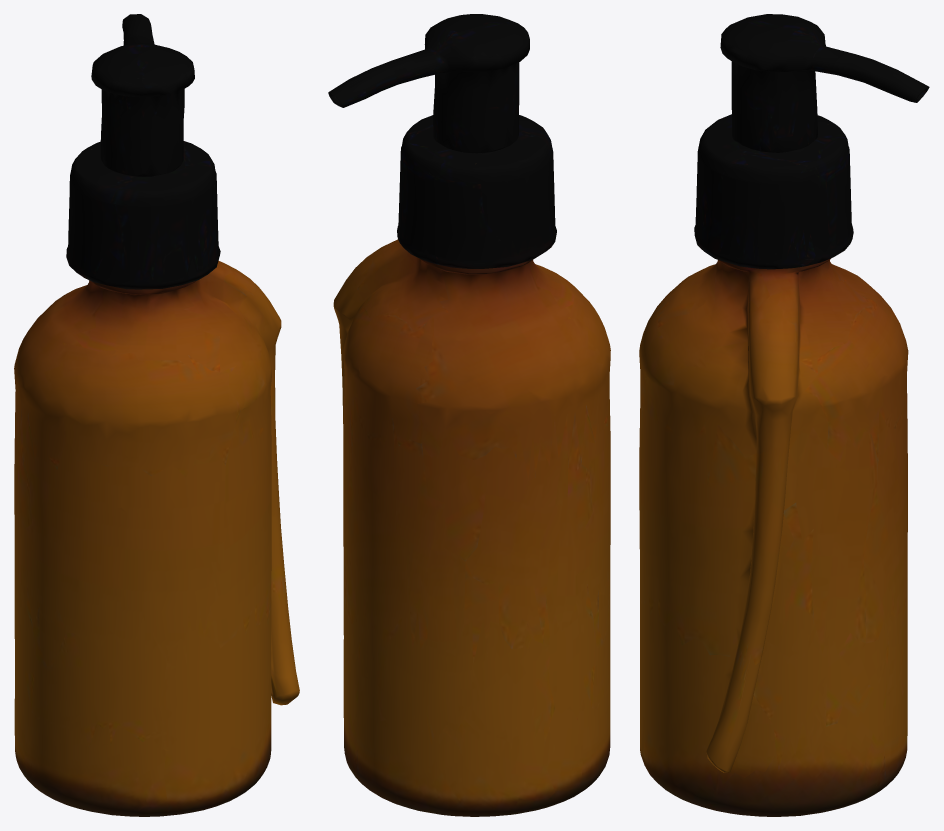
The model's file is bottle-v2.glb.
The picture shows the model from 3 angles, left to right: view 1: azimuth 30°, elevation 25°; view 2: azimuth 150°, elevation 25°; view 3: azimuth 270°, elevation 25°; orthographic projection. The views are drawn at different scales.
Parts seen in each view (by area): view 1: prop__bottle; view 2: prop__bottle; view 3: prop__bottle.
Boxes of the visible parts, x1,y1,x2,y2 form: prop__bottle: (14, 14, 299, 816); prop__bottle: (328, 14, 610, 816); prop__bottle: (639, 14, 929, 816).
Size of the model in its own units: 0.0872 by 0.24 by 0.0854.
Materials: 1 (1 with a texture image).
